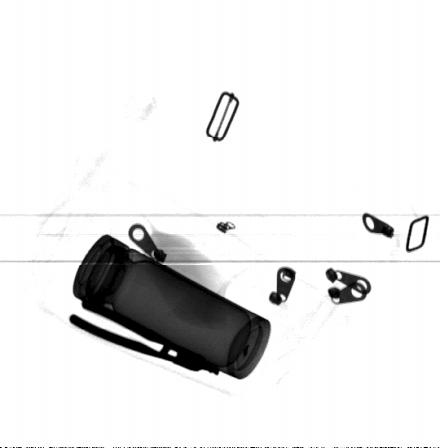Pliers: (68, 295, 222, 376)
